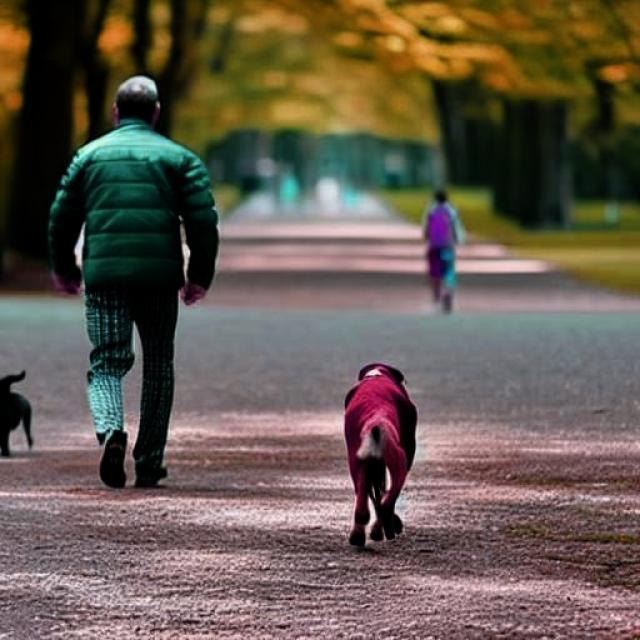Unleashed_Dog: (133, 279, 420, 549)
